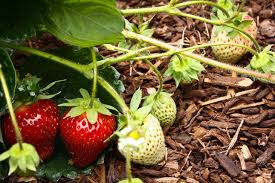ripe: (61, 101, 116, 169), (3, 96, 58, 160)
unripe: (114, 110, 167, 167), (206, 10, 259, 62), (142, 87, 176, 129)
